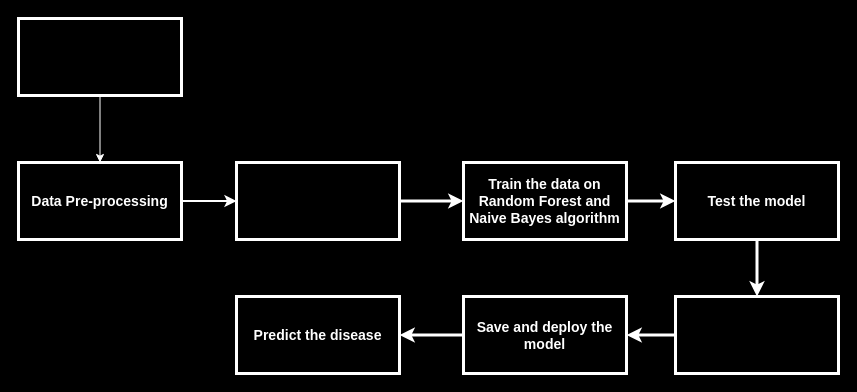
The diagram is 857 pixels wide and 392 high, and some of its shapes have lost their labels. The centre of each missing label's shape, as x and y in pixels:
"Collecting Data" belongs at point (99, 56).
"Feature Selection" belongs at point (317, 200).
"Find the model accuracy" belongs at point (757, 334).
